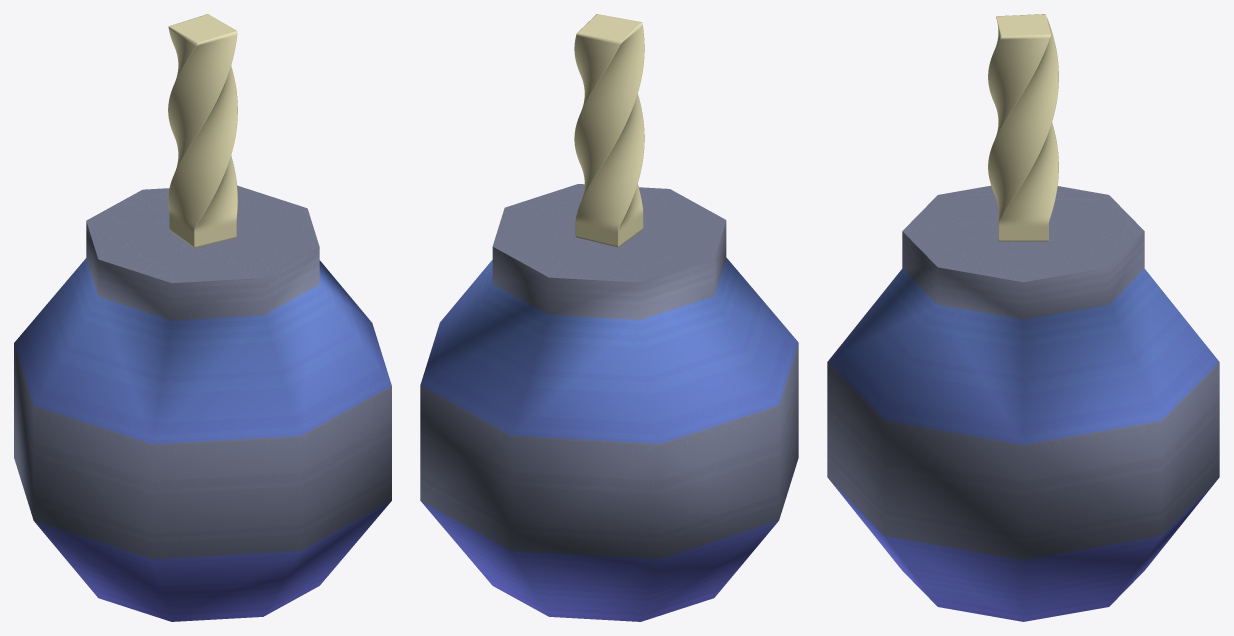
The model's file is LaBomba.glb.
3 renders of one model, left to right at view 1: azimuth 30°, elevation 25°; view 2: azimuth 150°, elevation 25°; view 3: azimuth 270°, elevation 25°, orthographic.
Parts seen in each view (by area): view 1: Cube; view 2: Cube; view 3: Cube.
Boxes of the visible parts, box(x1,y1,x2,y2) form: Cube: box(14, 14, 391, 621); Cube: box(420, 14, 798, 621); Cube: box(827, 14, 1219, 621).
Size of the model in its own units: 0.3424 by 0.5598 by 0.3424.
Materials: 2 (1 with a texture image).
